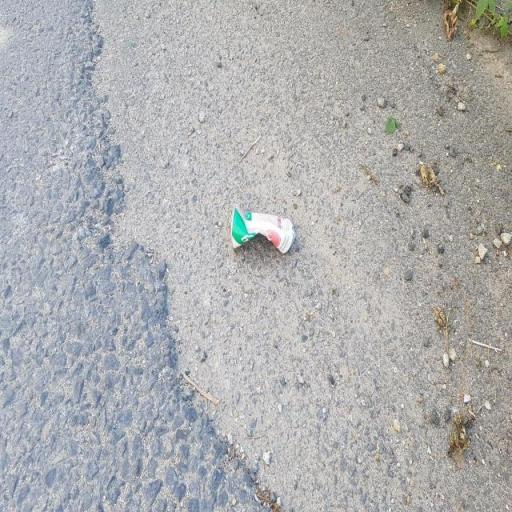metal: (224, 186, 311, 296)
